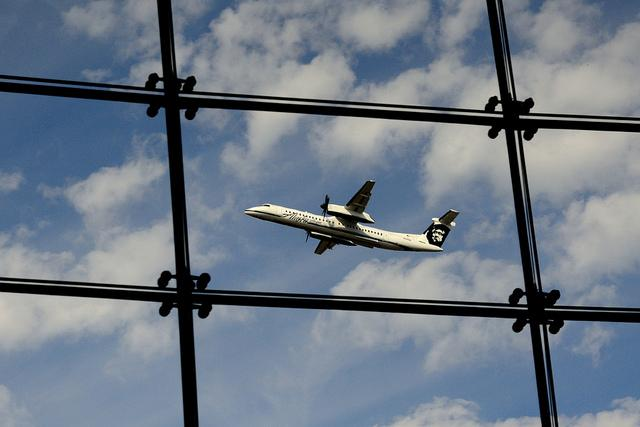airplane: (243, 178, 462, 257)
